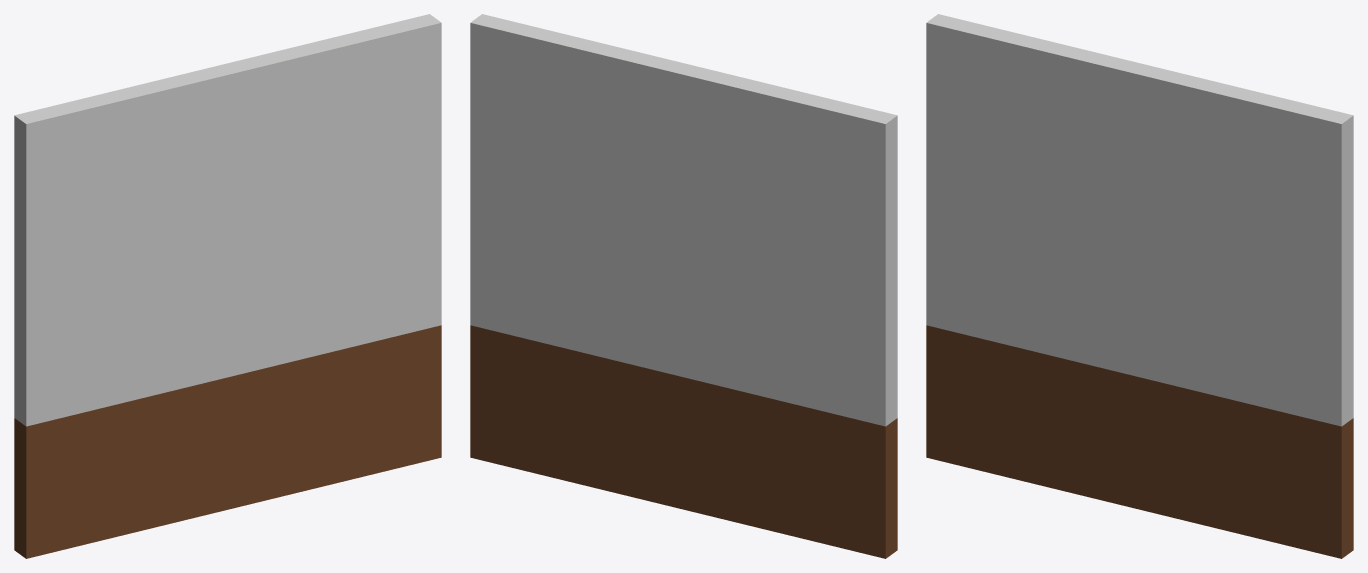
The model's file is dottopusorno_wall.fbx.
3 views of the same model, side by side, from view 1: azimuth 30°, elevation 25°; view 2: azimuth 150°, elevation 25°; view 3: azimuth 330°, elevation 25° (orthographic).
Visible parts, largest first — view 1: Cube.003; view 2: Cube.003; view 3: Cube.003.
Boxes of the visible parts, x1,y1,x2,y2 form: Cube.003: (14,14,441,558); Cube.003: (470,14,897,558); Cube.003: (926,14,1353,558).
Size of the model in its own units: 200 by 200 by 10.
